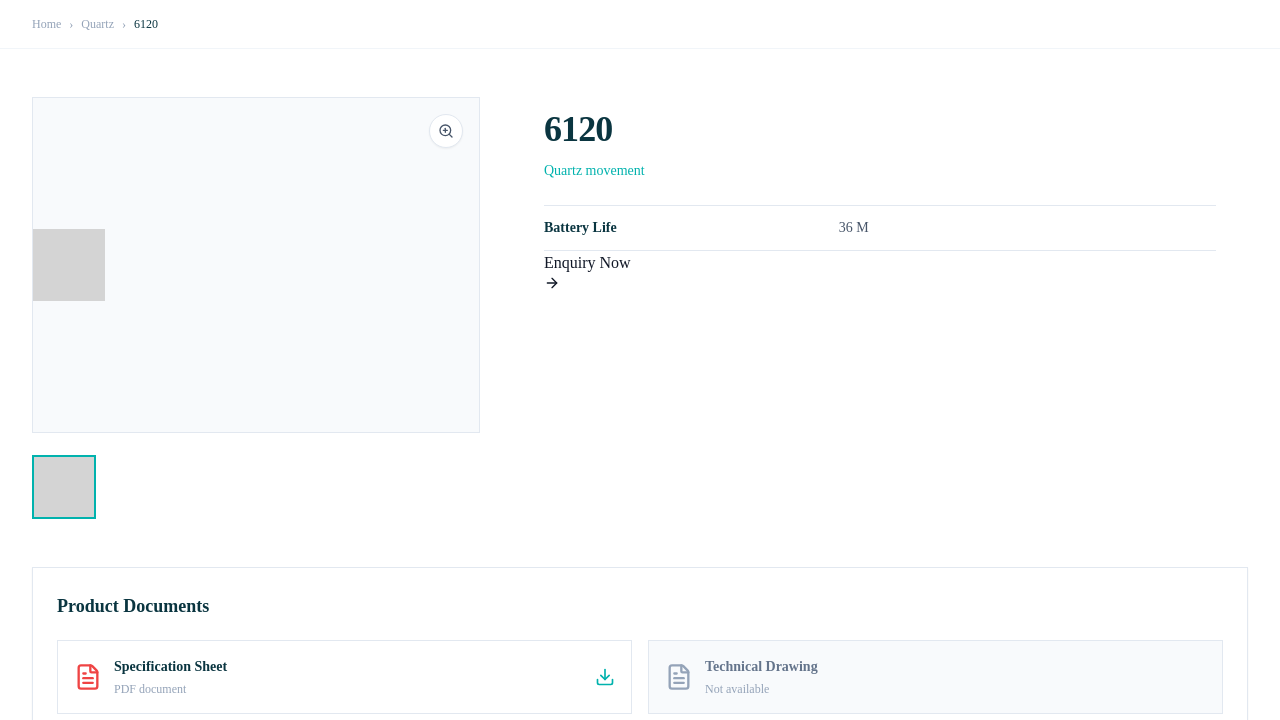
it: ProductDetails › opens and closes the image preview
Expected: the heading "6120" is shown, [544,109,612,149]
Step 1. Click the button named "Zoom 6120 image" → (256, 265), box [32,97,480,433]
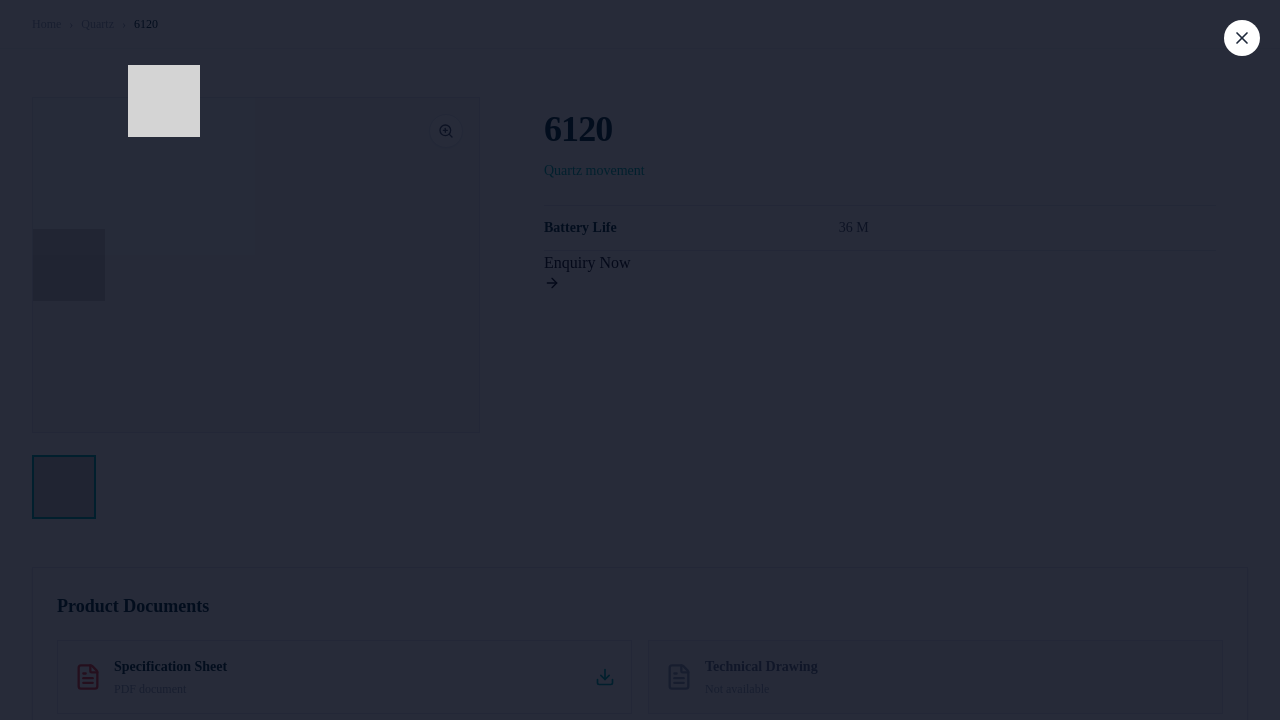
Expected: the dialog named "6120 image preview" is shown
Step 2. Click the button named "Close image preview" → (1242, 38), box [1224,20,1260,56]
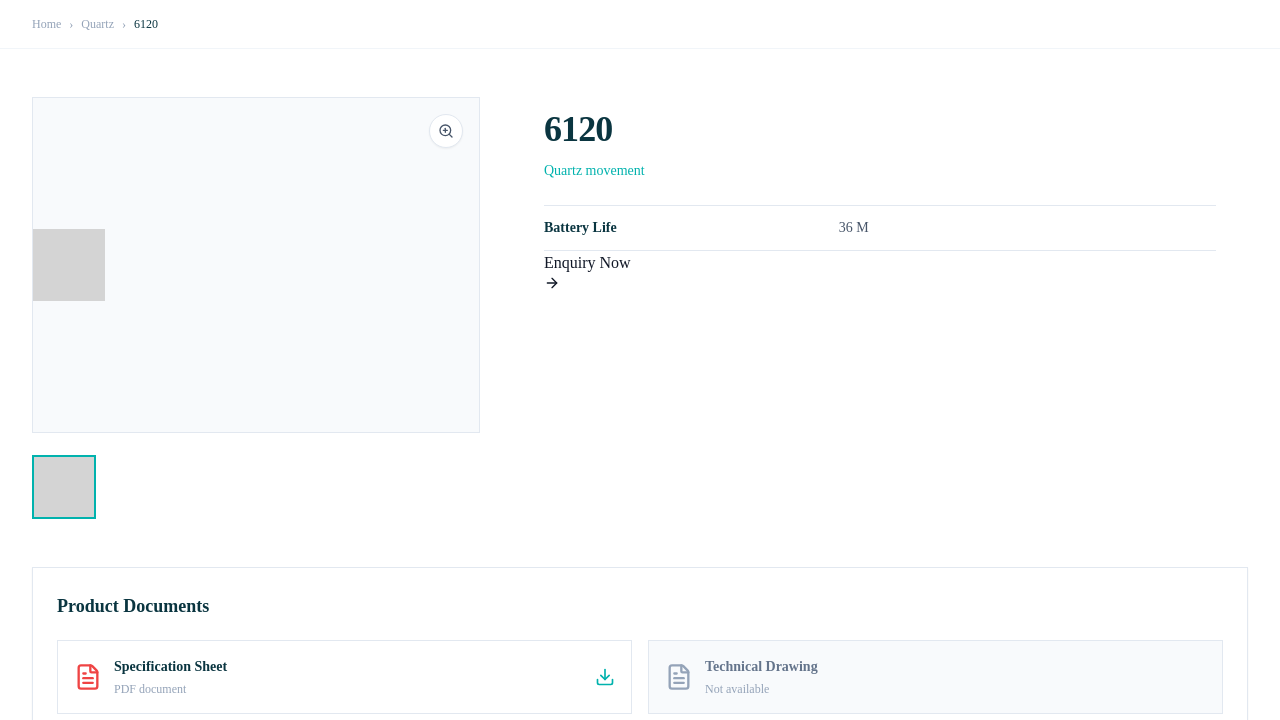
Expected: the dialog is gone
